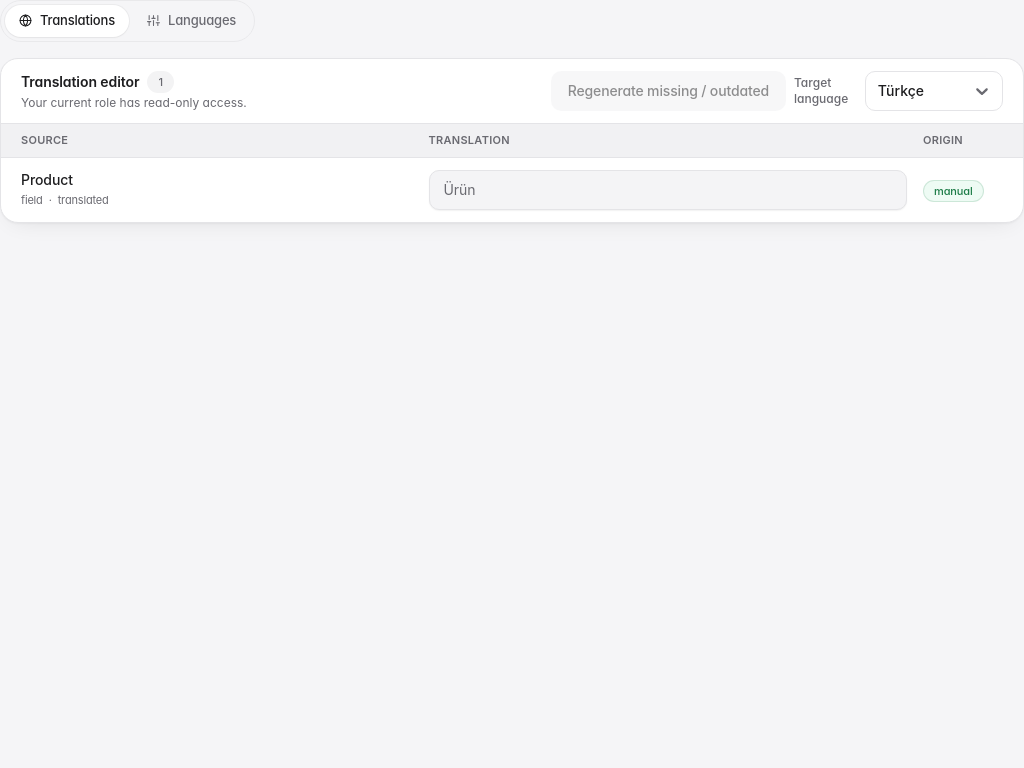
Scenario: ProjectLocalizationSection › keeps viewer localization access read-only
Expected: the field named "Translation for Product" is disabled, [428,170,907,210]
Expected: the button "Regenerate missing / outdated" is disabled, [551,71,786,111]
Click the tab "Languages" at (192, 21), box [133,5,250,36]
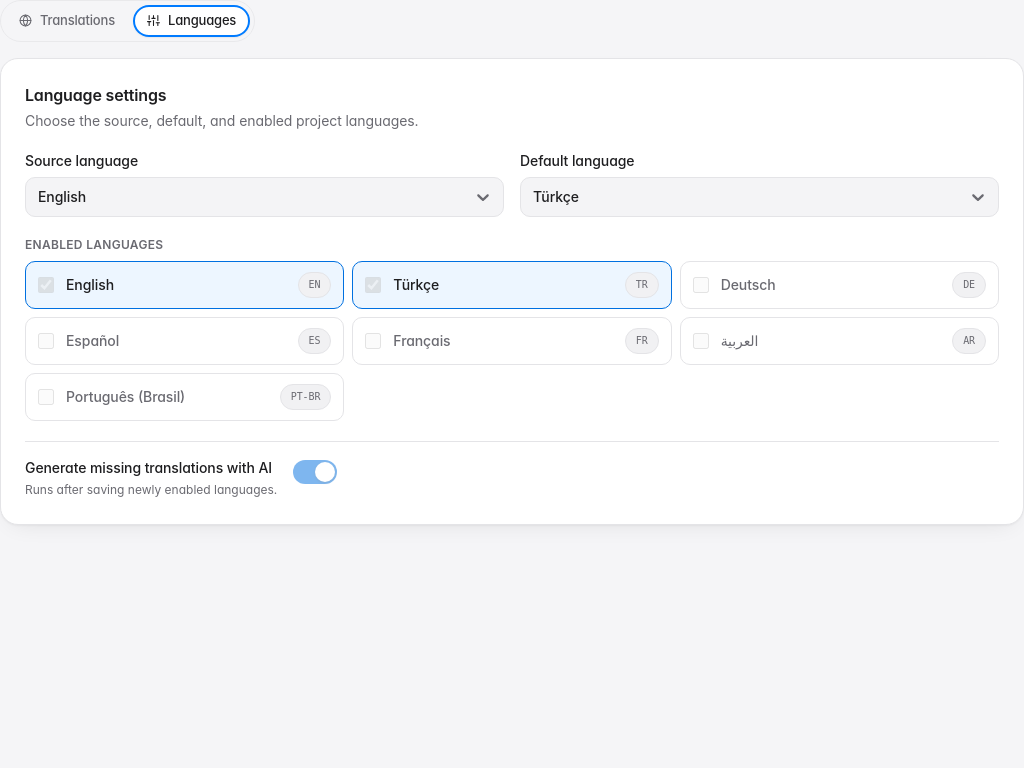
Expected: the label labelled "Source language" is disabled, [25,150,504,216]
